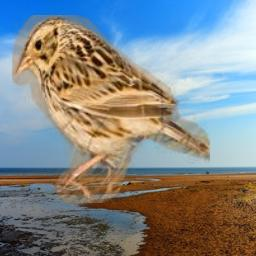Sparrow: (12, 15, 210, 203)
